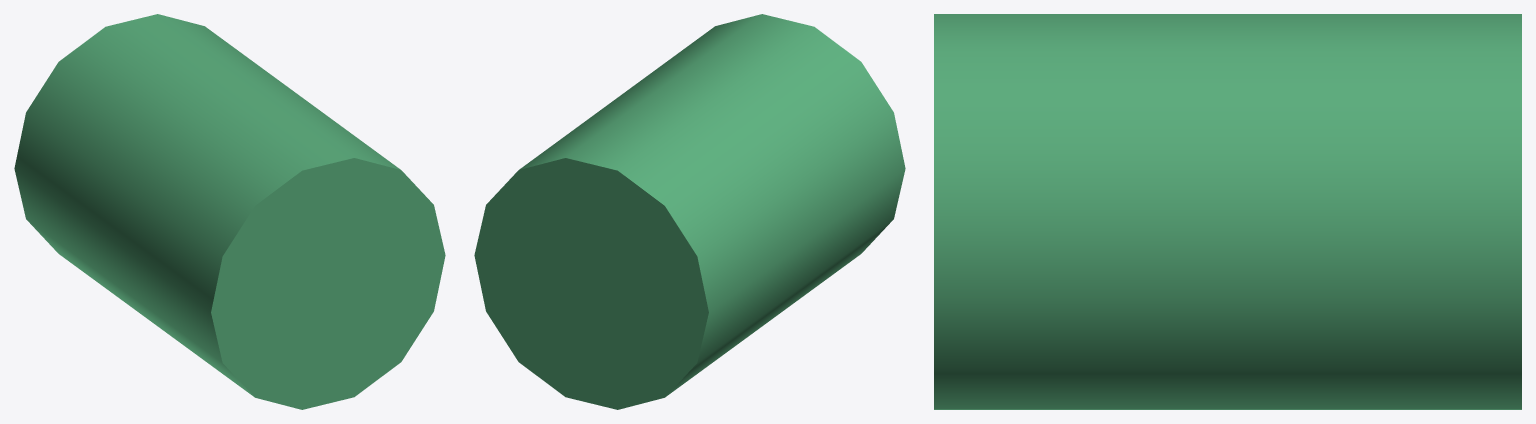
Rendered from buoy-barrel-green.glb.
The picture shows the model from 3 angles, left to right: view 1: azimuth 30°, elevation 25°; view 2: azimuth 150°, elevation 25°; view 3: azimuth 270°, elevation 25°; orthographic projection. The views are drawn at different scales.
Parts seen in each view (by area): view 1: buoy-barrel-green; view 2: buoy-barrel-green; view 3: buoy-barrel-green.
Boxes of the visible parts, box(x1,y1,x2,y2) form: buoy-barrel-green: box(14, 14, 445, 409); buoy-barrel-green: box(474, 14, 905, 409); buoy-barrel-green: box(934, 14, 1521, 409).
Bounding box in the file's own units: 1.24 × 1.21 × 1.8.
